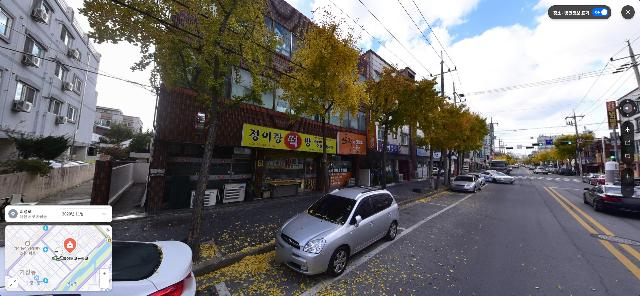ginkgo: (275, 8, 372, 191), (358, 62, 423, 186), (417, 97, 487, 188), (406, 73, 446, 184)
other: (75, 0, 300, 261), (10, 135, 75, 179), (553, 134, 581, 175), (97, 122, 135, 152), (577, 132, 596, 171), (128, 129, 154, 153)
